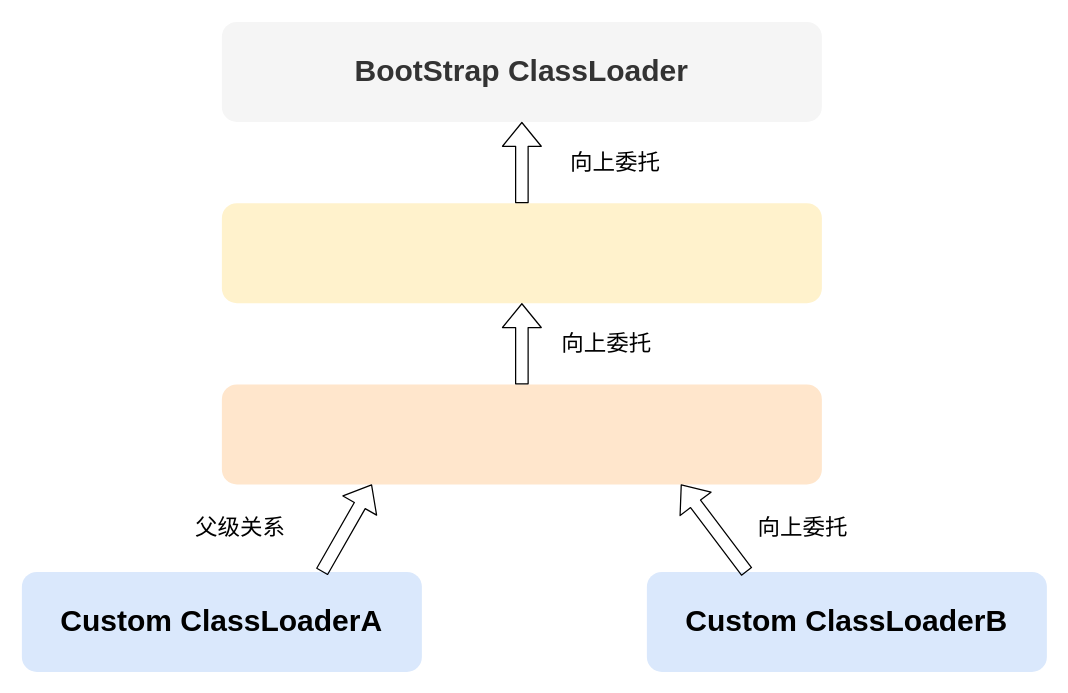
The diagram is 1068 pixels wide and 693 high, and some of its shapes have lost their labels. Here are the shapes that lost their labels. From the top down, the box of each, then its label:
(221, 202, 821, 302): Extention ClassLoader
(221, 384, 821, 484): Application ClassLoader
